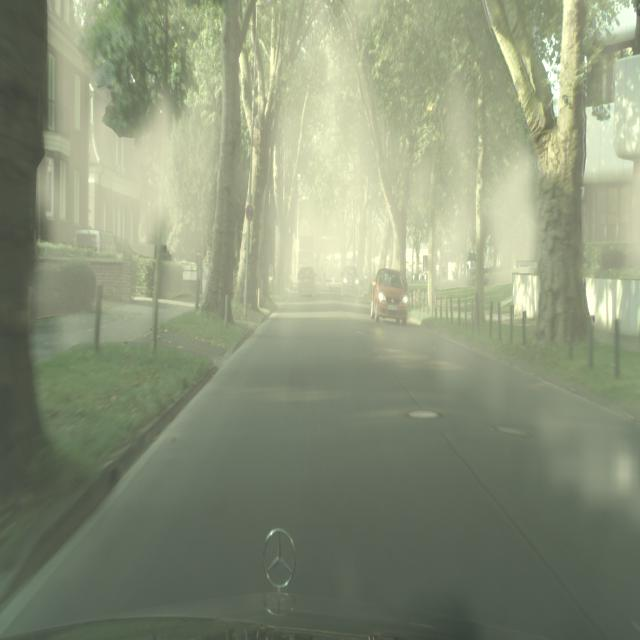train: (297, 234, 316, 298)
truck: (370, 268, 408, 325), (341, 266, 360, 298)
